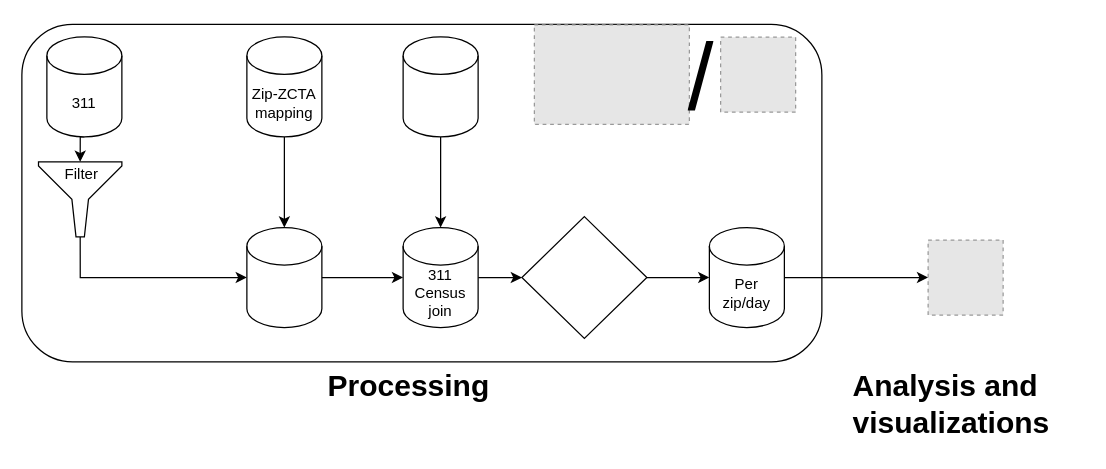
The diagram is 1106 pixels wide and 469 high, and some of its shapes have lost their labels. Grey dashed boxes stand in for pictures. Here are the shapes that lost their labels. From the top down, the centre of each, then its label:
At pixel 440 86: "Census".
At pixel 284 277: "311 reduced".
At pixel 584 276: "Filter and aggregate".
